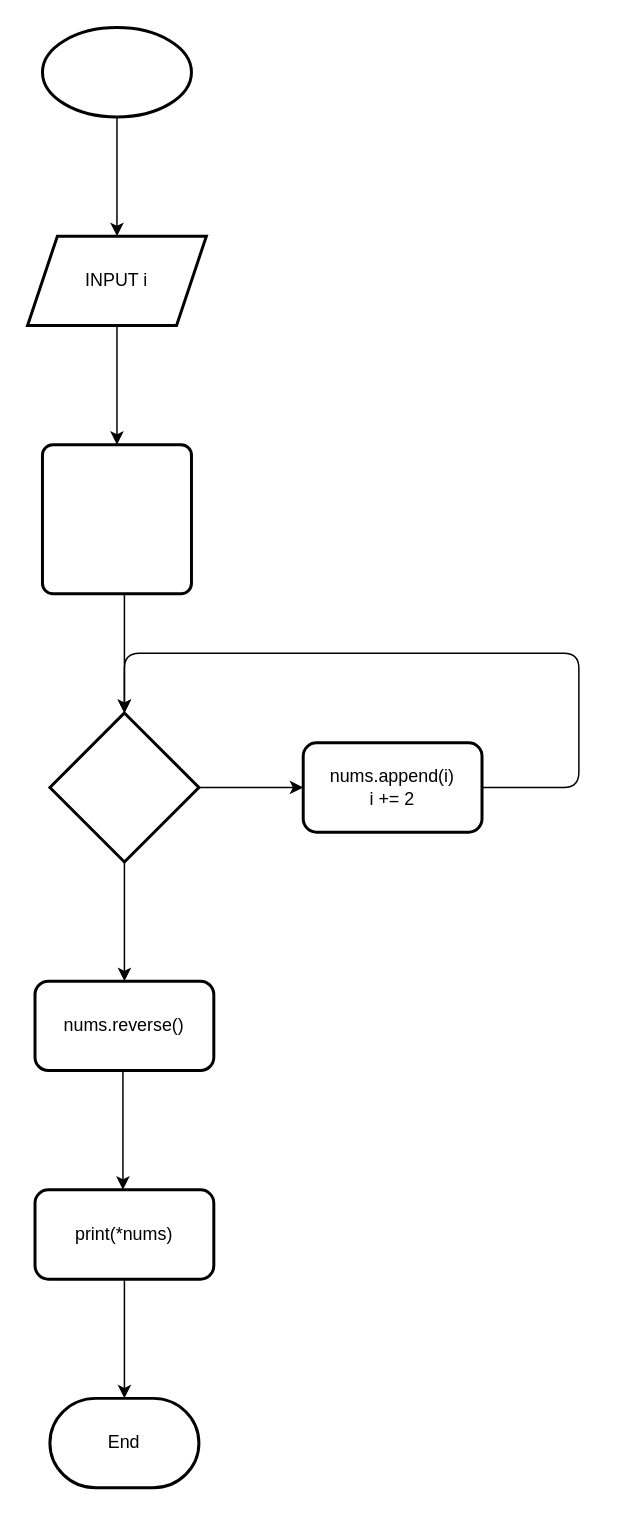
Image size: 617x1514. Some labels were removed from this diagram. The shapes that lost their labels are listed below. From the top down, each one's centre as x and y in pixels, then its label:
pixel 116 71: Start
pixel 116 519: nums = [] k = 2
pixel 124 787: k <= i
